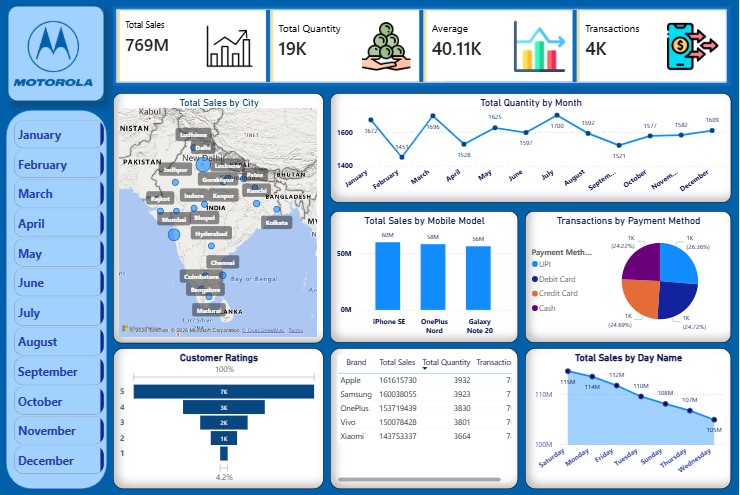

The page's visual inventory and layout, read from the dashboard file:
{"tool":"powerbi","page":{"name":"Page 1","canvas":[1280,861],"ordinal":0},"visuals":[{"type":"shape","box":[22.4,17.2,165.3,163.6],"z":0},{"type":"image","box":[24.1,31,151.5,136],"z":1000},{"type":"shape","box":[18.9,196.3,173.9,652.6],"z":2000},{"type":"advancedSlicerVisual","fields":{"Values":["sales_data.Date.Variation.Date Hierarchy.Month"]},"box":[27.6,208.4,165.3,625.1],"z":3000},{"type":"cardVisual","fields":{"Data":["sales_data.Total_Sales","sales_data.TQ","sales_data.Average","sales_data.Transactions"]},"box":[203.2,17.2,1064.2,137.8],"z":4000},{"type":"map","fields":{"Category":["sales_data.City"],"Size":["sales_data.Total Sales"]},"box":[203.2,167,363.3,430.5],"z":5000},{"type":"lineChart","fields":{"Y":["sales_data.Total Quantity"],"Category":["sales_data.Date.Variation.Date Hierarchy.Month","sales_data.Date.Variation.Date Hierarchy.Day"]},"box":[576.9,167,690.5,189.4],"z":6000},{"type":"clusteredColumnChart","fields":{"Category":["sales_data.Mobile Model"],"Y":["sales_data.Total Sales"]},"box":[576.9,370.2,323.7,227.3],"z":7000},{"type":"pieChart","fields":{"Y":["sales_data.Transactions"],"Category":["sales_data.Payment Method"]},"box":[912.7,370.2,354.7,227.3],"z":8000},{"type":"funnel","title":"Customer Ratings","fields":{"Category":["sales_data.Customer Ratings"],"Y":["Sum(sales_data.Customer Ratings)"]},"box":[203.2,606.1,363.3,242.8],"z":9000},{"type":"areaChart","fields":{"Category":["sales_data.Day Name"],"Y":["sales_data.Total Sales"]},"box":[912.7,606.1,354.7,242.8],"z":10000},{"type":"tableEx","fields":{"Values":["sales_data.Brand","sales_data.Total Sales","sales_data.Total Quantity","sales_data.Transactions"]},"box":[576.9,606.1,323.7,242.8],"z":11000}]}

Visuals, with their boxes in screenshot pixels (x1, y1, x2, y2), scaled from the page's 1280x861 canvas onto the 740x495 screenshot:
shape: {"left": 13, "top": 10, "right": 109, "bottom": 104}
image: {"left": 14, "top": 18, "right": 102, "bottom": 96}
shape: {"left": 11, "top": 113, "right": 111, "bottom": 488}
advancedSlicerVisual - sales_data.Date.Variation.Date Hierarchy.Month: {"left": 16, "top": 120, "right": 112, "bottom": 479}
cardVisual - sales_data.Total_Sales x sales_data.TQ: {"left": 117, "top": 10, "right": 733, "bottom": 89}
map - sales_data.City x sales_data.Total Sales: {"left": 117, "top": 96, "right": 328, "bottom": 344}
lineChart - sales_data.Total Quantity x sales_data.Date.Variation.Date Hierarchy.Month: {"left": 334, "top": 96, "right": 733, "bottom": 205}
clusteredColumnChart - sales_data.Mobile Model x sales_data.Total Sales: {"left": 334, "top": 213, "right": 521, "bottom": 344}
pieChart - sales_data.Transactions x sales_data.Payment Method: {"left": 528, "top": 213, "right": 733, "bottom": 344}
"Customer Ratings" funnel: {"left": 117, "top": 348, "right": 328, "bottom": 488}
areaChart - sales_data.Day Name x sales_data.Total Sales: {"left": 528, "top": 348, "right": 733, "bottom": 488}
tableEx - sales_data.Brand x sales_data.Total Sales: {"left": 334, "top": 348, "right": 521, "bottom": 488}
